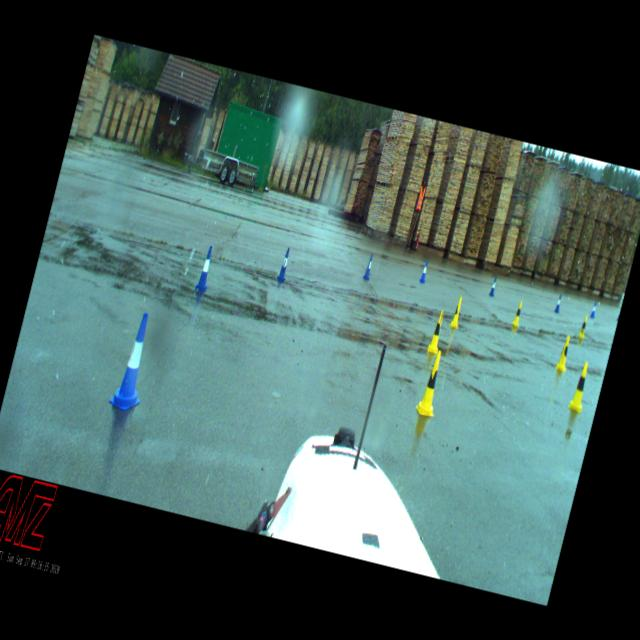blue_cone: (107, 308, 161, 414), (194, 244, 217, 293), (276, 246, 292, 283), (362, 252, 375, 281), (418, 259, 429, 283), (553, 292, 563, 314), (488, 276, 498, 296), (588, 301, 598, 318), (616, 308, 620, 321)
yellow_cone: (414, 348, 448, 418), (567, 360, 592, 412), (426, 310, 447, 354), (554, 334, 574, 372), (449, 296, 465, 329), (512, 300, 524, 326), (576, 314, 588, 338)
